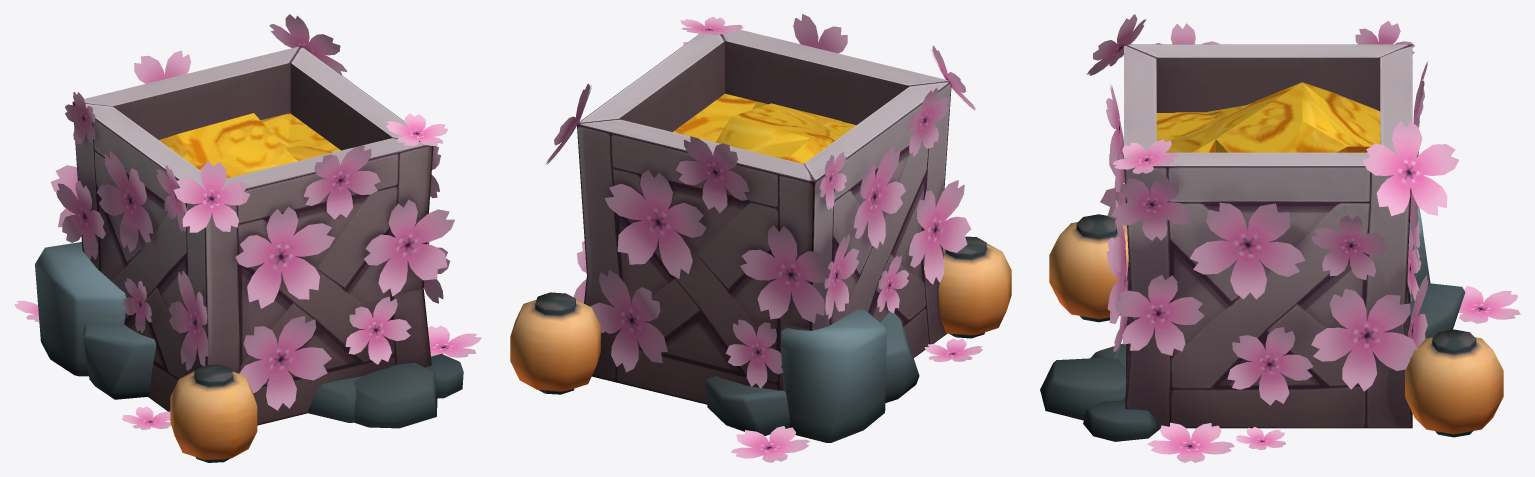
Rendered from Crate Sakura.obj.
The picture shows the model from 3 angles, left to right: view 1: azimuth 30°, elevation 25°; view 2: azimuth 150°, elevation 25°; view 3: azimuth 270°, elevation 25°; orthographic projection. The views are drawn at different scales.
Visible parts, largest first — view 1: Mid1; view 2: Mid1; view 3: Mid1.
Part boxes in pixels (x1,y1,x2,y2): Mid1: (14, 14, 481, 462); Mid1: (510, 14, 1011, 462); Mid1: (1040, 14, 1520, 462).
Size of the model in its own units: 8.24 by 6.28 by 8.83.
Materials: 1 (1 with a texture image).
